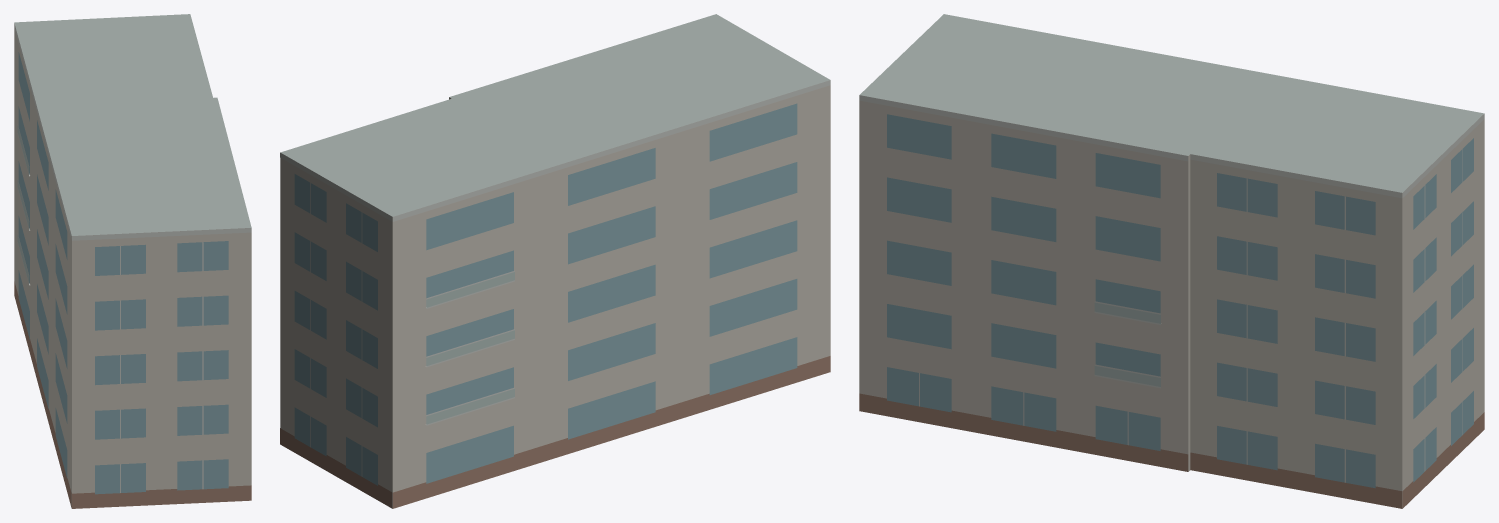
The model's file is survey-upis-32478461.glb.
3 views of the same model, side by side, from view 1: azimuth 30°, elevation 25°; view 2: azimuth 150°, elevation 25°; view 3: azimuth 270°, elevation 25° (orthographic). The views are drawn at different scales.
Visible parts, largest first — view 1: survey-upis-32478461.tmp; view 2: survey-upis-32478461.tmp; view 3: survey-upis-32478461.tmp.
Part boxes in pixels (x1,y1,x2,y2): survey-upis-32478461.tmp: [14, 14, 251, 508]; survey-upis-32478461.tmp: [280, 14, 830, 508]; survey-upis-32478461.tmp: [859, 14, 1484, 508].
Size of the model in its own units: 17 by 14 by 25.11.
